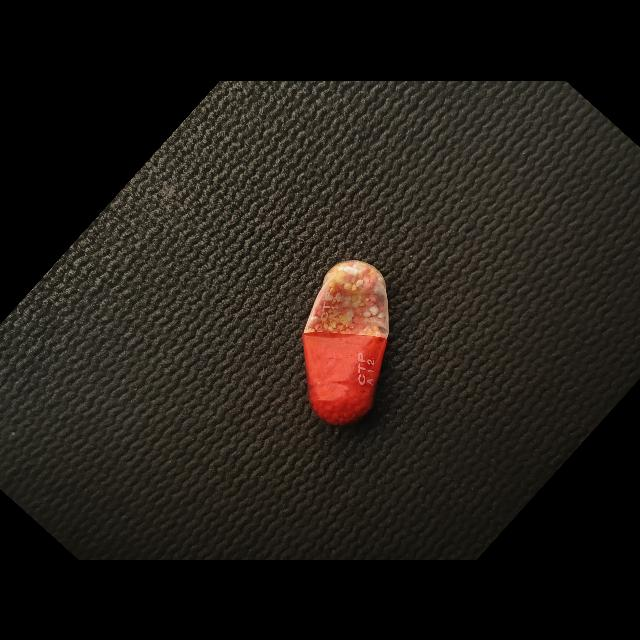Defective Capsule: (302, 260, 389, 425)
